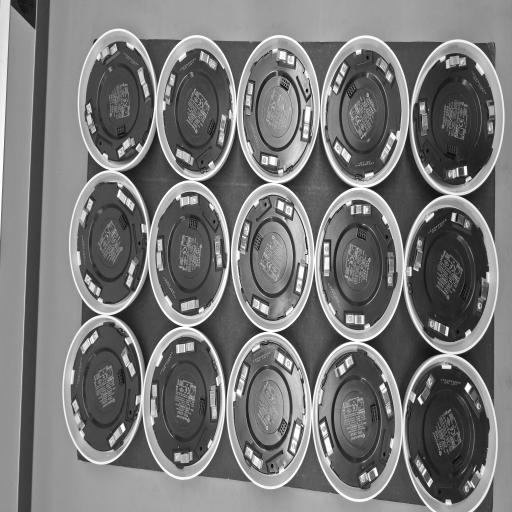konnektor: (458, 280, 471, 304), (277, 416, 291, 438), (451, 452, 463, 475), (347, 82, 362, 100), (278, 77, 293, 94), (118, 211, 128, 235), (370, 404, 380, 428), (207, 115, 216, 140), (446, 142, 460, 158), (254, 232, 264, 254), (116, 122, 128, 138), (357, 226, 369, 242), (197, 394, 206, 414), (117, 366, 126, 386), (189, 217, 199, 233)
yayli: (415, 452, 437, 494), (242, 438, 266, 474), (329, 60, 350, 101), (470, 273, 490, 316), (340, 303, 368, 333), (422, 312, 452, 340), (78, 326, 101, 361), (416, 374, 439, 408), (463, 378, 484, 415), (120, 340, 138, 383), (330, 135, 354, 167), (380, 126, 398, 168), (135, 61, 153, 102), (483, 93, 498, 142), (333, 352, 357, 382), (450, 209, 474, 239), (409, 232, 426, 274), (148, 378, 164, 422), (300, 100, 316, 144), (176, 294, 202, 320), (162, 70, 177, 115), (444, 162, 472, 186), (375, 56, 394, 91), (82, 270, 104, 300), (320, 416, 335, 460), (380, 378, 395, 422), (464, 462, 484, 495), (198, 49, 220, 79), (258, 147, 282, 174), (116, 186, 136, 218), (356, 464, 382, 488), (251, 292, 274, 319), (238, 217, 252, 260), (79, 194, 94, 234), (124, 254, 140, 291), (107, 422, 128, 450), (236, 359, 250, 401), (273, 348, 294, 376), (443, 51, 468, 74), (293, 255, 307, 296), (174, 144, 196, 170), (216, 106, 229, 150), (290, 416, 305, 454), (115, 135, 136, 162), (72, 396, 86, 436), (272, 50, 300, 70), (384, 248, 397, 291), (174, 338, 197, 362), (98, 42, 119, 68), (154, 233, 166, 278), (272, 199, 295, 221), (208, 383, 219, 428), (213, 232, 224, 274), (246, 75, 256, 121), (85, 100, 97, 138), (176, 189, 200, 207), (418, 96, 428, 139), (174, 443, 194, 464), (322, 232, 331, 278), (347, 202, 372, 218)
